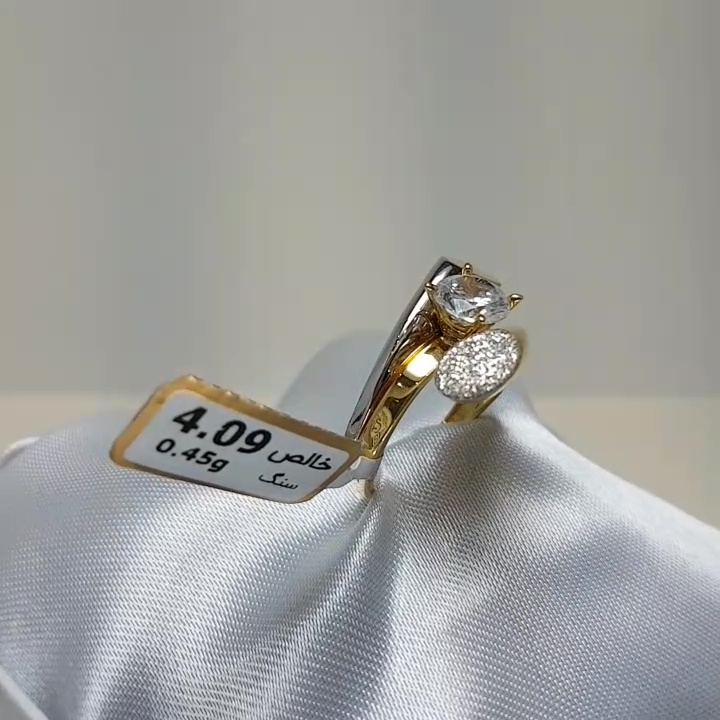Ring 7: (332, 239, 553, 508)
